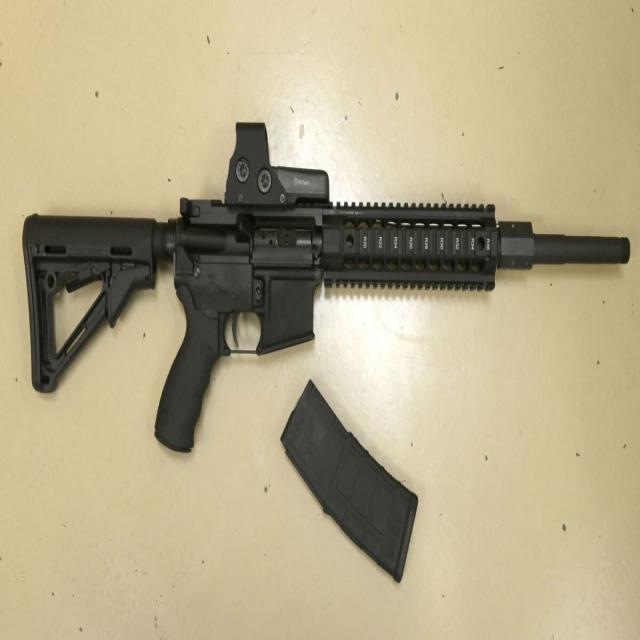weapon: (20, 120, 631, 456)
